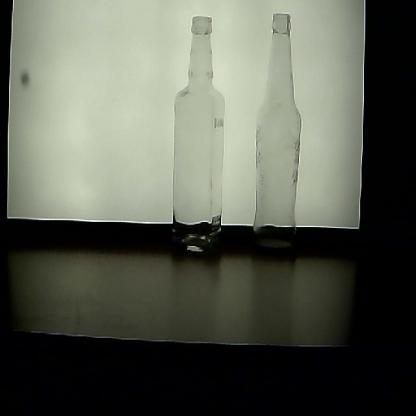Can: (167, 14, 226, 263), (246, 13, 304, 261)
